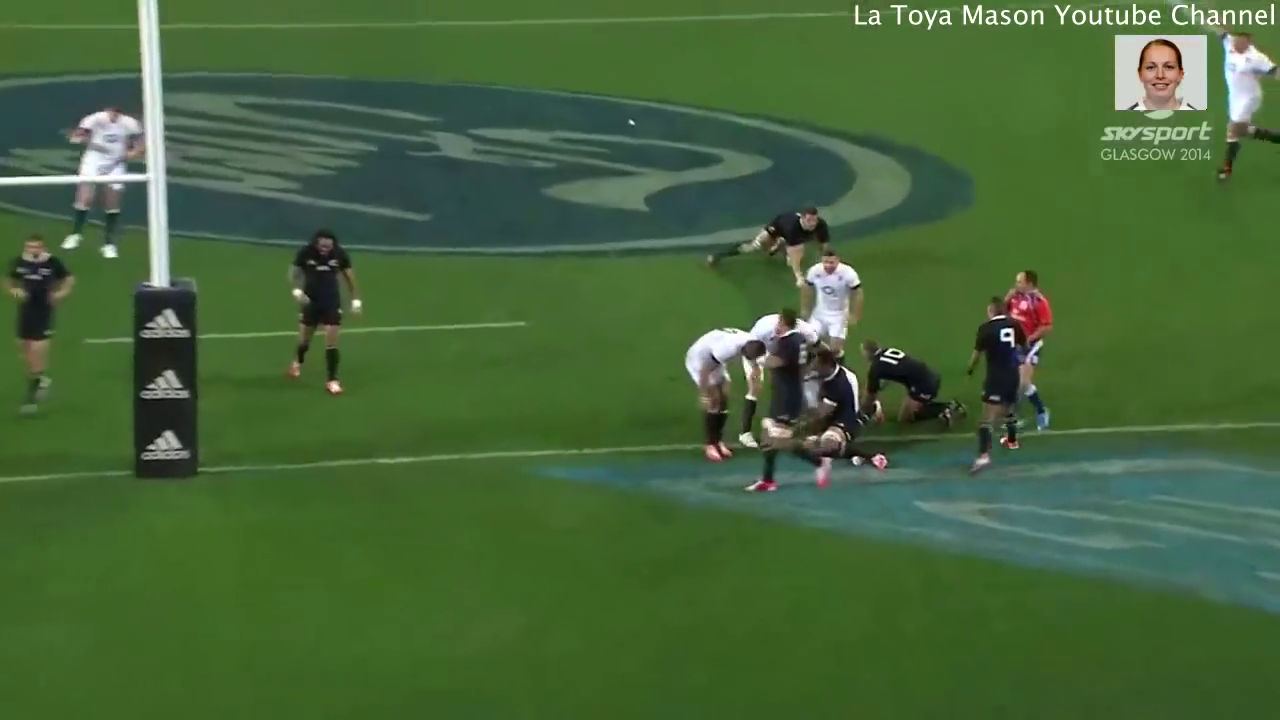player: (278, 222, 374, 405), (1, 224, 79, 421), (963, 283, 1034, 479), (60, 96, 142, 263), (755, 302, 819, 493), (686, 317, 763, 472), (852, 332, 967, 424), (1215, 22, 1280, 183), (702, 202, 842, 270), (1009, 263, 1058, 430), (792, 245, 870, 338)
ruck: (742, 323, 886, 433)
